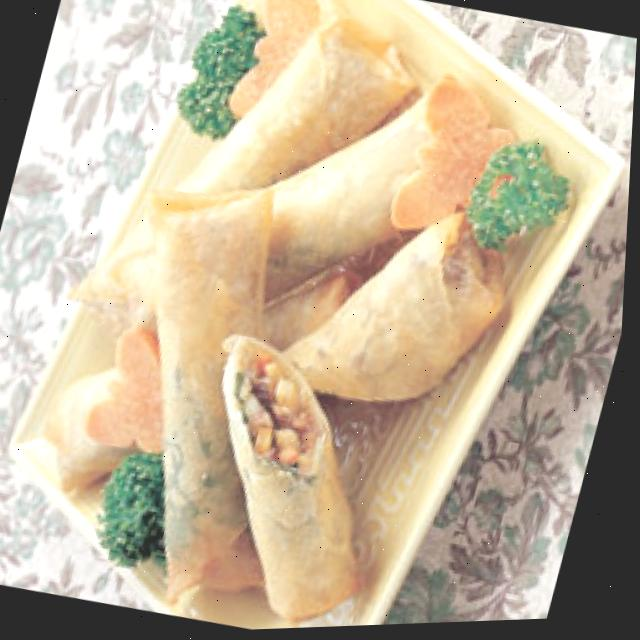鸡蛋料理: (0, 0, 579, 639)
